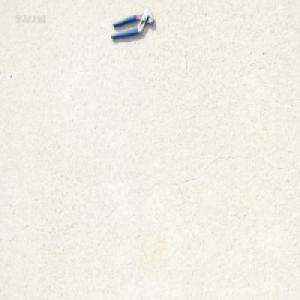Pliers: (110, 9, 154, 40)
